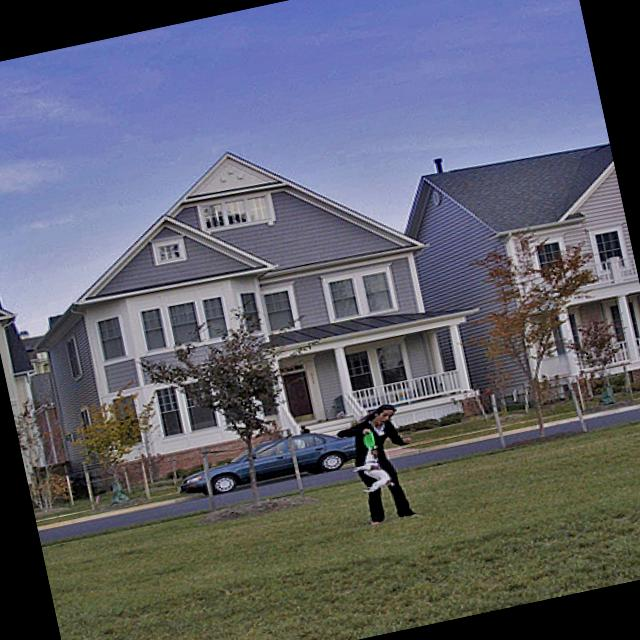Vehicle: (172, 423, 358, 502)
